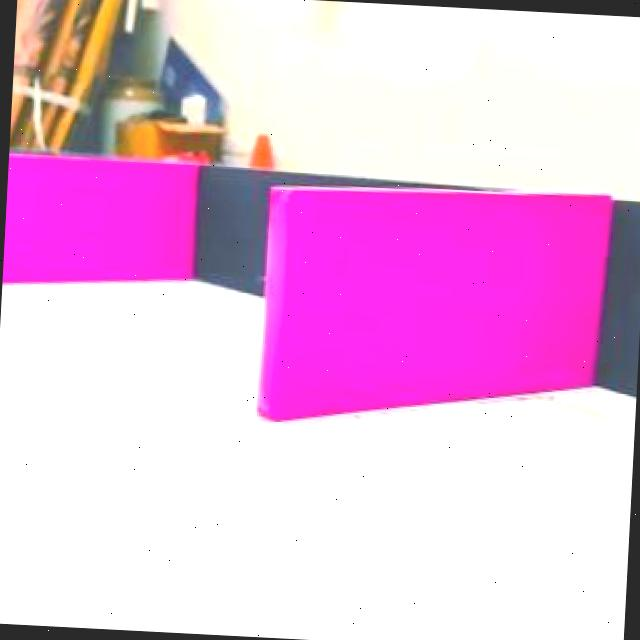xparking: (257, 185, 606, 392), (2, 150, 196, 276)
